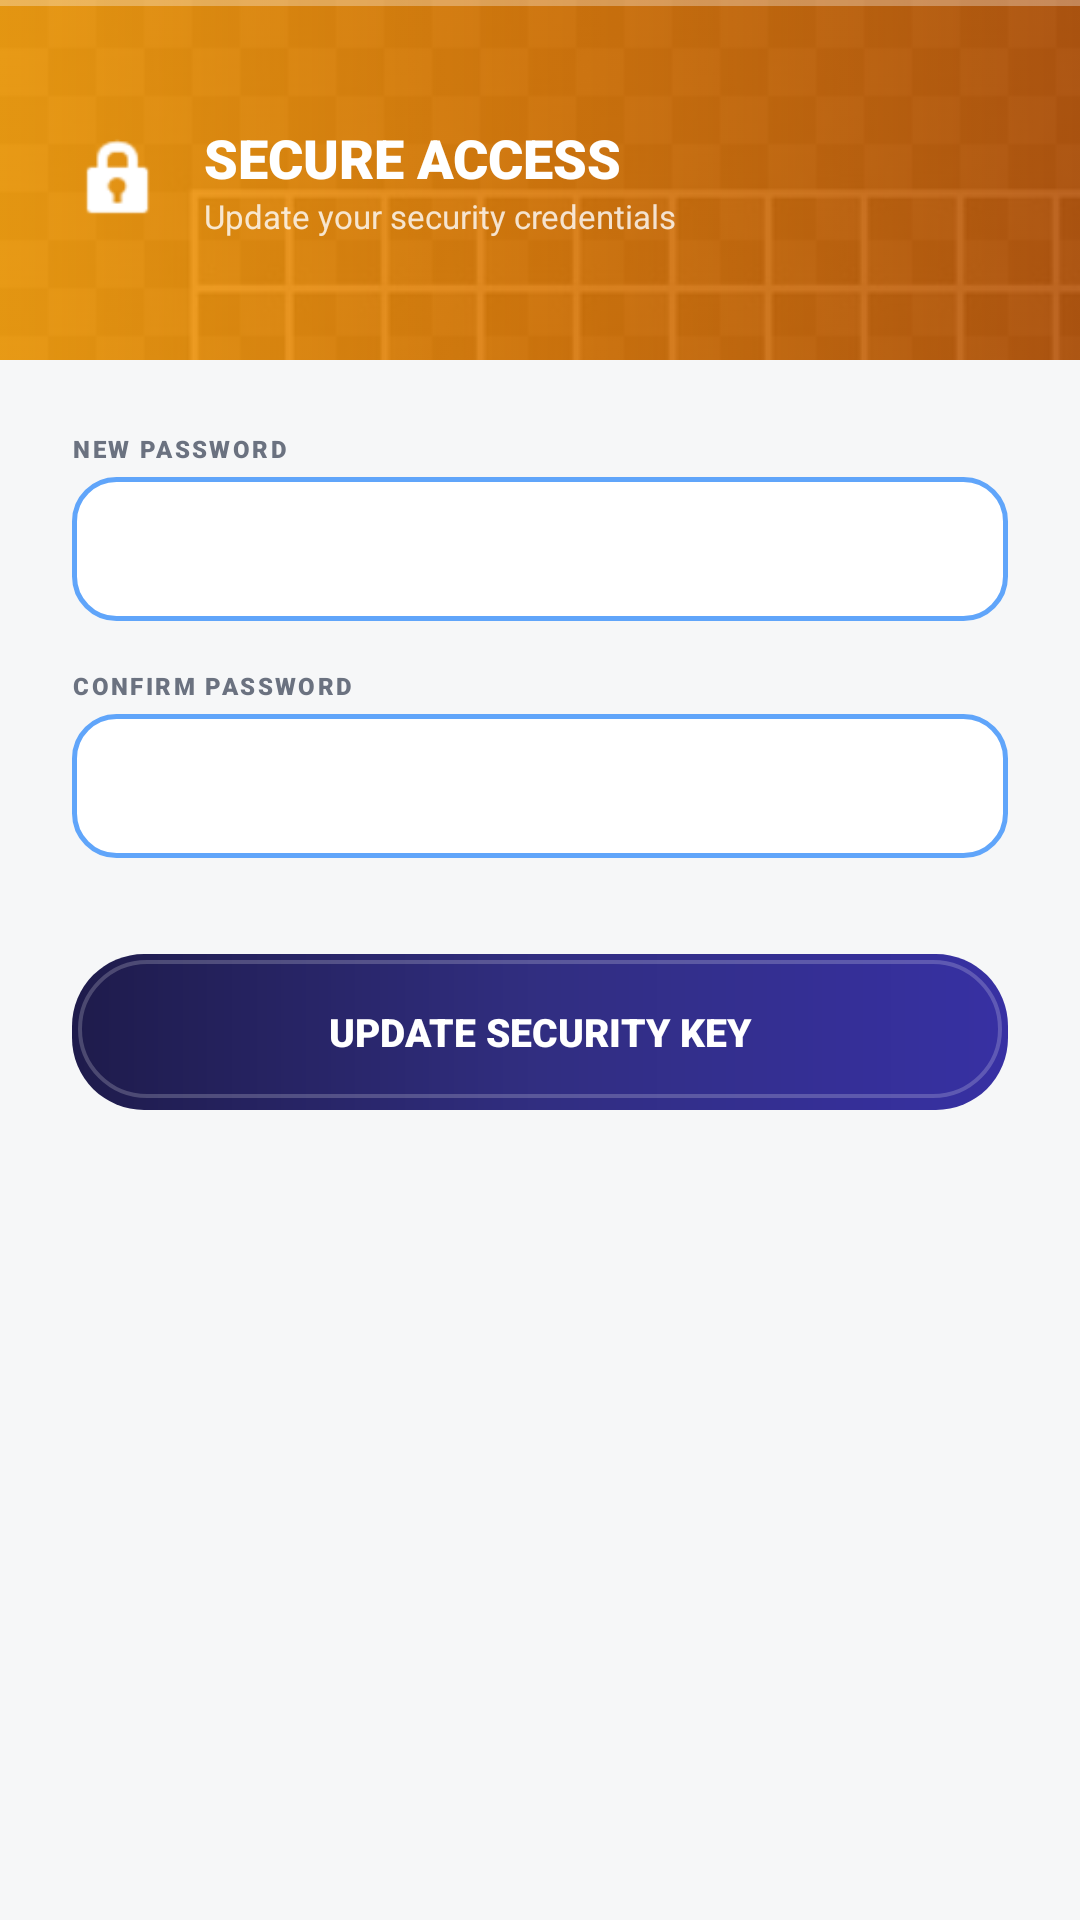

Icon bounding boxes for this 1080w x 1920h phone screenshot, format (x1, y1, x2, y2):
lock idle: (86, 140, 149, 214)
